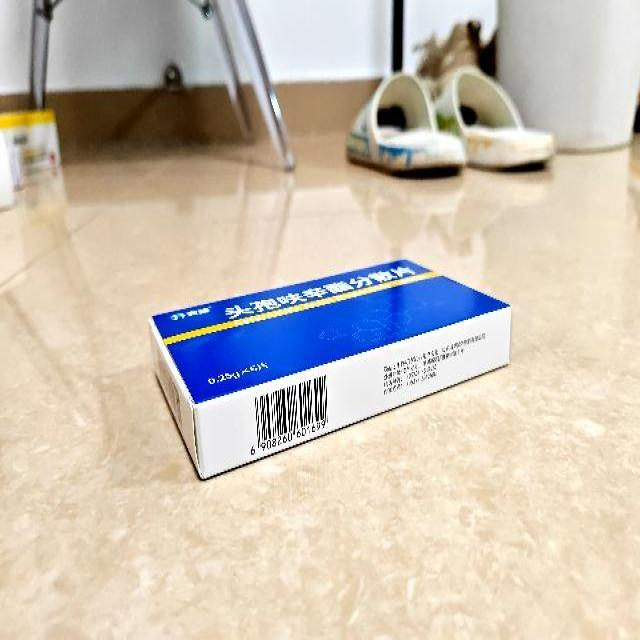box: (151, 258, 514, 481)
